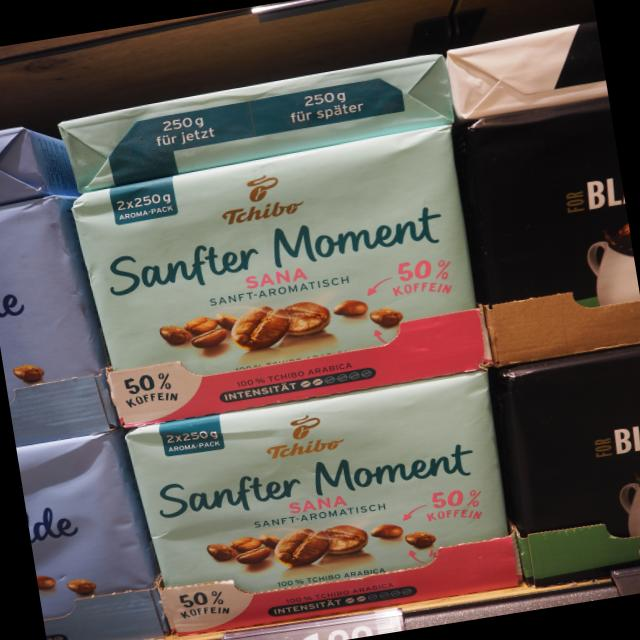BM Gemahlen: (456, 98, 640, 367)
BW Gemahlen: (495, 348, 640, 577)
SM Gemahlen: (65, 120, 487, 432), (122, 367, 522, 634)
